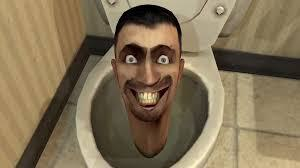skibidi-toilet: (113, 5, 185, 119)
